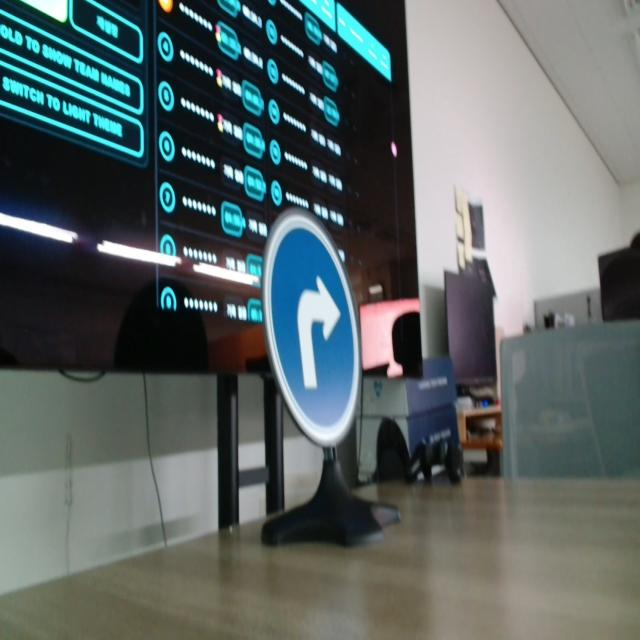right_dierection: (255, 202, 388, 461)
